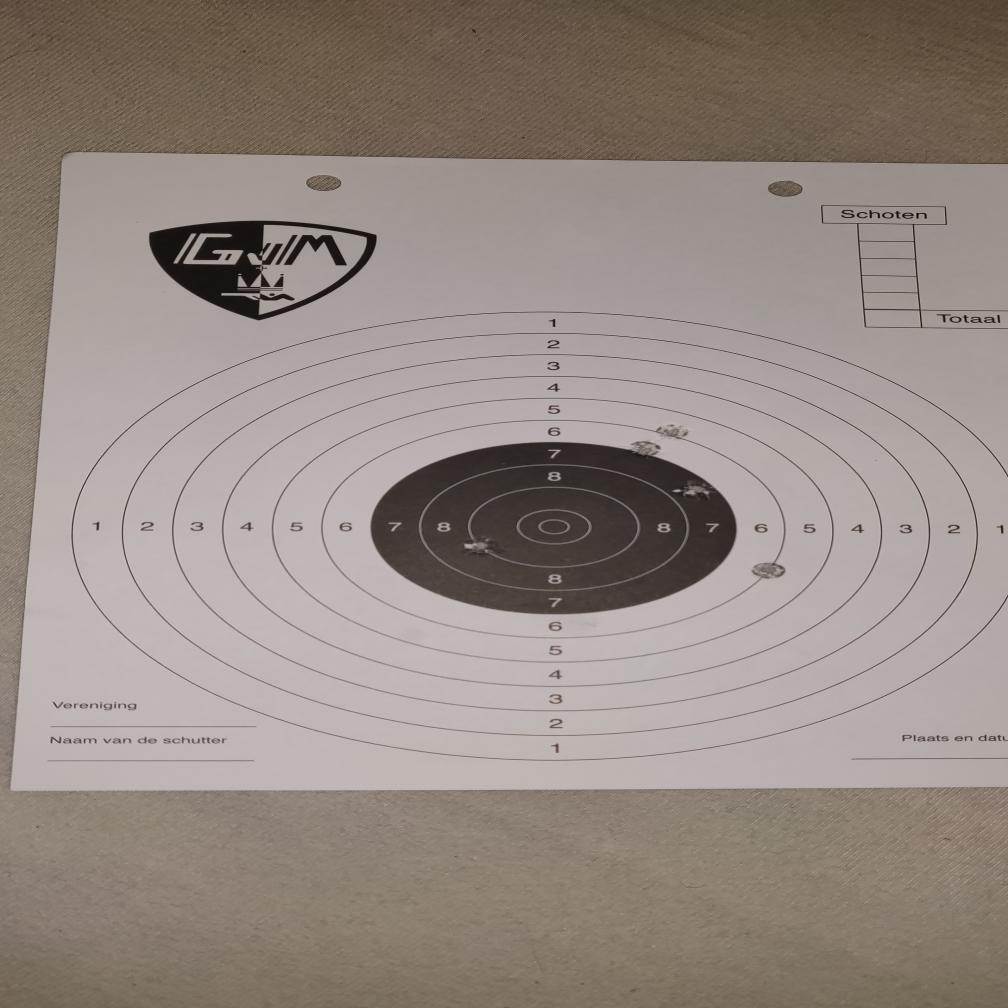6: (751, 557, 794, 584), (649, 420, 702, 441)
7: (669, 476, 721, 500), (626, 437, 665, 459)
9: (460, 536, 508, 558)
Target: (77, 310, 1008, 762)
black_contour: (368, 440, 739, 614)
